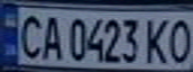0: (63, 15, 87, 62)
2: (103, 15, 124, 64)
3: (121, 15, 145, 64)
4: (84, 15, 106, 63)
A: (39, 11, 66, 61)
C: (15, 11, 45, 61)
K: (142, 14, 172, 65)
O: (163, 15, 193, 64)
